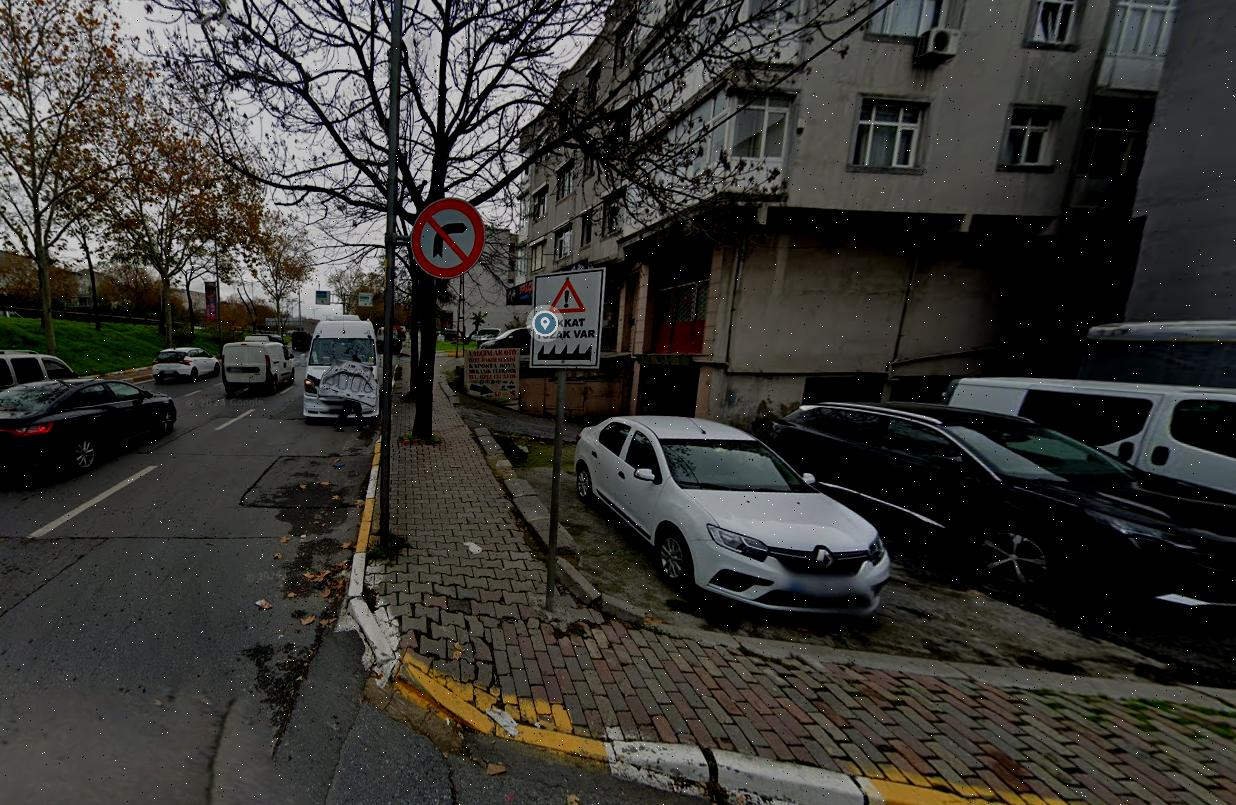rightturnsareforbidden: (413, 200, 479, 267)
